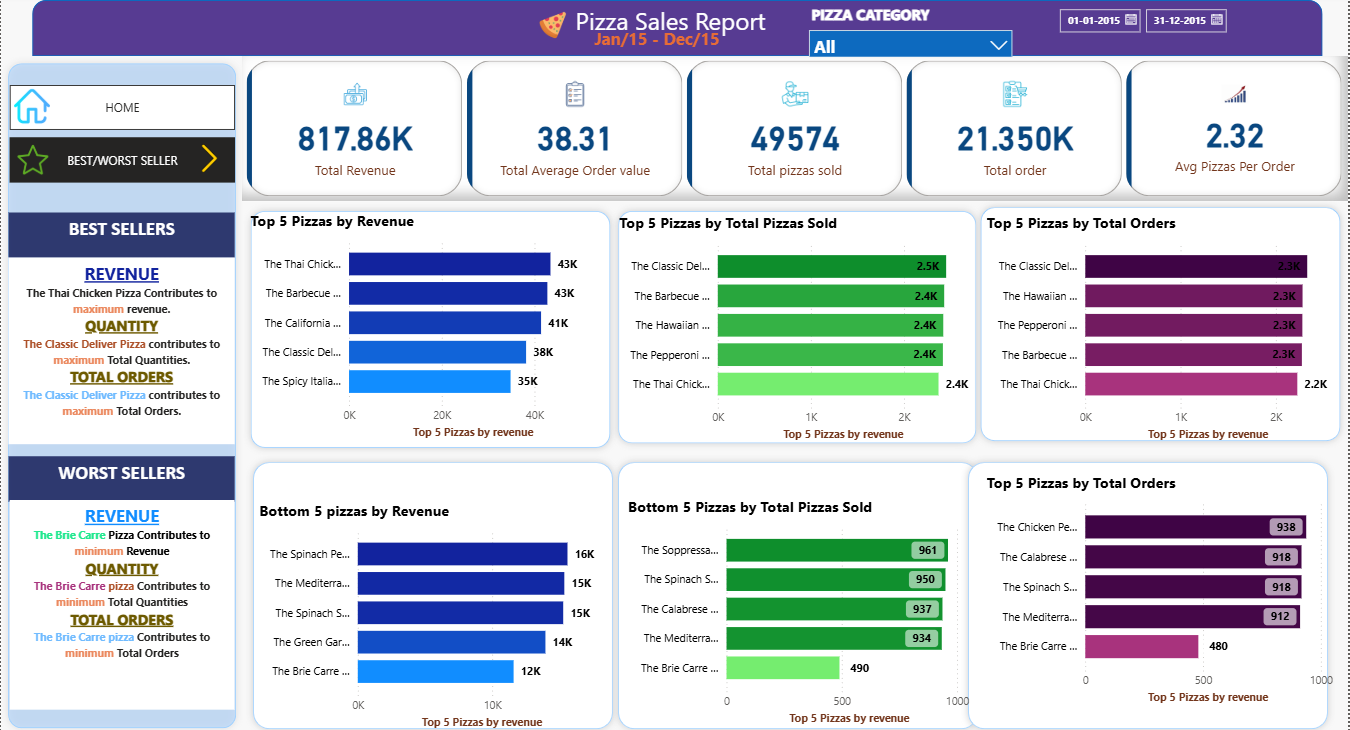

What the dashboard file says about the page in this screenshot:
{"tool":"powerbi","page":{"name":"BEST/WORST SELLER","canvas":[1500,820],"ordinal":1},"visuals":[{"type":"shape","box":[0,63.3,270,756.7],"z":0},{"type":"cardVisual","fields":{"Data":["pizza_sales.Total Revenue","pizza_sales.Total Average Order value","pizza_sales.Total pizzas sold","pizza_sales.Total order","pizza_sales.Avg Pizzas Per Order"]},"box":[268.3,63.3,1231.7,161.7],"z":1000},{"type":"shape","box":[34.4,0,1437.5,62.5],"z":2000},{"type":"textbox","box":[634.4,0,250,62.5],"z":3000},{"type":"textbox","box":[656.2,25,206.2,37.5],"z":4000},{"type":"image","box":[594.4,5.6,40,44.4],"z":5000},{"type":"shape","box":[270,226.7,416.7,280],"z":6000},{"type":"textbox","box":[8.9,236.7,252.2,50],"z":16000},{"type":"textbox","box":[8.9,286.7,252.2,207.8],"z":17000},{"type":"textbox","box":[8.9,507.9,252.2,50],"z":18000},{"type":"textbox","box":[10,556.7,250,233.3],"z":19000},{"type":"slicer","fields":{"Values":["pizza_sales.pizza_category"]},"box":[890,0,246.7,63.3],"z":20000},{"type":"slicer","fields":{"Values":["pizza_sales.order_date"]},"box":[1166.7,0,265,63.3],"z":21000},{"type":"shape","box":[680,227.5,415,275],"z":21001},{"type":"shape","box":[1083.3,223.3,416.7,276.7],"z":21002},{"type":"shape","box":[273.3,506.7,416.7,313.3],"z":21003},{"type":"shape","box":[680,506.7,416.7,313.3],"z":21004},{"type":"shape","box":[1070,506.7,416.7,313.3],"z":21005},{"type":"barChart","title":"Top 5 Pizzas by Revenue","fields":{"Category":["pizza_sales.pizza_name"],"Y":["pizza_sales.Total Revenue"]},"box":[273.3,233.3,406.7,260],"z":21006},{"type":"barChart","title":"Bottom 5 pizzas by Revenue","fields":{"Category":["pizza_sales.pizza_name"],"Y":["pizza_sales.Total Revenue"]},"box":[283.3,556.7,406.7,260],"z":21007},{"type":"barChart","title":"Top 5 Pizzas by Total Pizzas Sold","fields":{"Category":["pizza_sales.pizza_name"],"Y":["pizza_sales.Total pizzas sold"]},"box":[683.3,236.7,406.7,260],"z":21008},{"type":"barChart","title":"Bottom 5 Pizzas by Total Pizzas Sold","fields":{"Category":["pizza_sales.pizza_name"],"Y":["pizza_sales.Total pizzas sold"]},"box":[693.3,553.3,406.7,260],"z":21009},{"type":"barChart","title":"Top 5 Pizzas by Total Orders","fields":{"Category":["pizza_sales.pizza_name"],"Y":["pizza_sales.Total order"]},"box":[1093.3,236.7,406.7,260],"z":21010},{"type":"barChart","title":"Top 5 Pizzas by Total Orders","fields":{"Category":["pizza_sales.pizza_name"],"Y":["pizza_sales.Total order"]},"box":[1093.3,526.7,406.7,263.3],"z":21011},{"type":"pageNavigator","box":[10,94.2,251.7,50],"z":21012},{"type":"pageNavigator","box":[10,152.5,251.7,50],"z":21013},{"type":"image","box":[210,156.7,44.2,40.8],"z":21014},{"type":"image","box":[10,91.7,50,52.5],"z":21015},{"type":"image","box":[11.7,155.8,48.3,44.2],"z":21016}]}

Visuals, with their boxes in screenshot pixels (x1, y1, x2, y2), scaled from the page's 1500x820 canvas onto the 1350x730 screenshot:
shape: (left=0, top=56, right=243, bottom=729)
cardVisual - pizza_sales.Total Revenue x pizza_sales.Total Average Order value: (left=241, top=56, right=1349, bottom=200)
shape: (left=31, top=0, right=1325, bottom=56)
textbox: (left=571, top=0, right=796, bottom=56)
textbox: (left=591, top=22, right=776, bottom=56)
image: (left=535, top=5, right=571, bottom=45)
shape: (left=243, top=202, right=618, bottom=451)
textbox: (left=8, top=211, right=235, bottom=255)
textbox: (left=8, top=255, right=235, bottom=440)
textbox: (left=8, top=452, right=235, bottom=497)
textbox: (left=9, top=496, right=234, bottom=703)
slicer - pizza_sales.pizza_category: (left=801, top=0, right=1023, bottom=56)
slicer - pizza_sales.order_date: (left=1050, top=0, right=1289, bottom=56)
shape: (left=612, top=203, right=986, bottom=447)
shape: (left=975, top=199, right=1349, bottom=445)
shape: (left=246, top=451, right=621, bottom=729)
shape: (left=612, top=451, right=987, bottom=729)
shape: (left=963, top=451, right=1338, bottom=729)
"Top 5 Pizzas by Revenue" barChart: (left=246, top=208, right=612, bottom=439)
"Bottom 5 pizzas by Revenue" barChart: (left=255, top=496, right=621, bottom=727)
"Top 5 Pizzas by Total Pizzas Sold" barChart: (left=615, top=211, right=981, bottom=442)
"Bottom 5 Pizzas by Total Pizzas Sold" barChart: (left=624, top=493, right=990, bottom=724)
"Top 5 Pizzas by Total Orders" barChart: (left=984, top=211, right=1349, bottom=442)
"Top 5 Pizzas by Total Orders" barChart: (left=984, top=469, right=1349, bottom=703)
pageNavigator: (left=9, top=84, right=236, bottom=128)
pageNavigator: (left=9, top=136, right=236, bottom=180)
image: (left=189, top=140, right=229, bottom=176)
image: (left=9, top=82, right=54, bottom=128)
image: (left=11, top=139, right=54, bottom=178)
